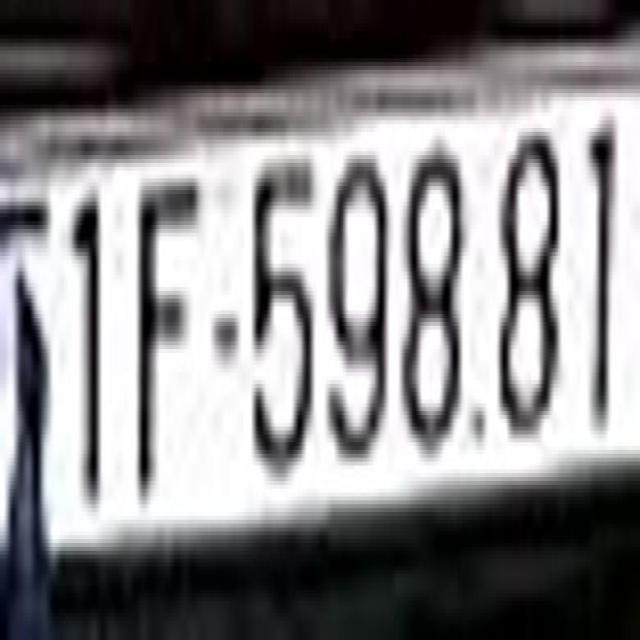1: (69, 186, 104, 489), (589, 124, 624, 423)
5: (252, 128, 313, 458)
8: (403, 128, 463, 446), (499, 128, 559, 442)
9: (329, 155, 389, 458)
F: (137, 171, 199, 504)
